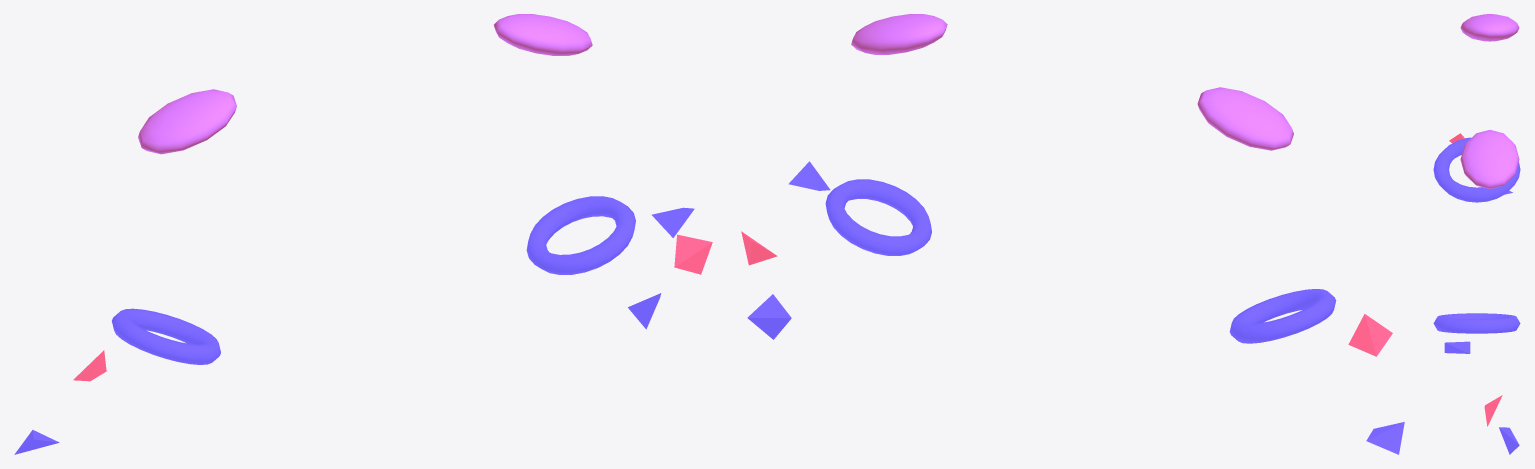
The model's file is avatar-nebulosa-kit-criador.glb.
3 views of the same model, side by side, from view 1: azimuth 30°, elevation 25°; view 2: azimuth 150°, elevation 25°; view 3: azimuth 270°, elevation 25° (orthographic). The views are drawn at different scales.
Visible parts, largest first — view 1: kit_nebulosa_criador_violetCuffL, kit_nebulosa_criador_iridPlateR, kit_nebulosa_criador_violetCuffR, kit_nebulosa_criador_iridPlateL, kit_nebulosa_criador_shard1; view 2: kit_nebulosa_criador_violetCuffL, kit_nebulosa_criador_iridPlateR, kit_nebulosa_criador_violetCuffR, kit_nebulosa_criador_iridPlateL, kit_nebulosa_criador_shard3, kit_nebulosa_criador_shard2, kit_nebulosa_criador_shard4; view 3: kit_nebulosa_criador_iridPlateL, kit_nebulosa_criador_violetCuffR, kit_nebulosa_criador_violetCuffL, kit_nebulosa_criador_iridPlateR, kit_nebulosa_criador_shard0, kit_nebulosa_criador_shard2, kit_nebulosa_criador_shard1.
Boxes of the visible parts, left/top/right/bottom form: kit_nebulosa_criador_violetCuffL: left=526, top=196, right=635, bottom=274; kit_nebulosa_criador_iridPlateR: left=138, top=89, right=236, bottom=154; kit_nebulosa_criador_violetCuffR: left=112, top=308, right=220, bottom=364; kit_nebulosa_criador_iridPlateL: left=494, top=14, right=592, bottom=55; kit_nebulosa_criador_shard1: left=674, top=234, right=712, bottom=274; kit_nebulosa_criador_violetCuffL: left=825, top=179, right=931, bottom=255; kit_nebulosa_criador_iridPlateR: left=1197, top=87, right=1293, bottom=150; kit_nebulosa_criador_violetCuffR: left=1229, top=289, right=1336, bottom=343; kit_nebulosa_criador_iridPlateL: left=851, top=14, right=947, bottom=54; kit_nebulosa_criador_shard3: left=1348, top=314, right=1392, bottom=356; kit_nebulosa_criador_shard2: left=747, top=294, right=791, bottom=339; kit_nebulosa_criador_shard4: left=1366, top=422, right=1404, bottom=454; kit_nebulosa_criador_iridPlateL: left=1460, top=130, right=1519, bottom=189; kit_nebulosa_criador_violetCuffR: left=1433, top=137, right=1520, bottom=202; kit_nebulosa_criador_violetCuffL: left=1433, top=313, right=1520, bottom=333; kit_nebulosa_criador_iridPlateR: left=1460, top=14, right=1519, bottom=41; kit_nebulosa_criador_shard0: left=1444, top=341, right=1470, bottom=353; kit_nebulosa_criador_shard2: left=1499, top=427, right=1519, bottom=454; kit_nebulosa_criador_shard1: left=1484, top=395, right=1502, bottom=426.
Bounding box in the file's own units: 0.9273 × 0.4557 × 0.134.
